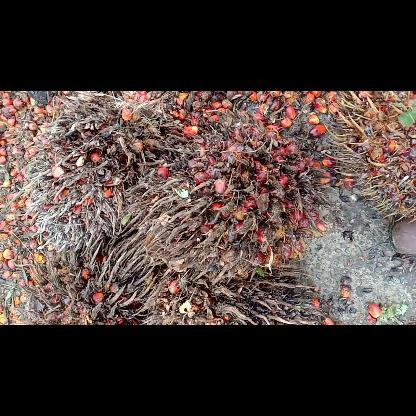Terlalu masak: (118, 105, 340, 283), (21, 91, 191, 255), (134, 252, 332, 324), (37, 224, 155, 324)
